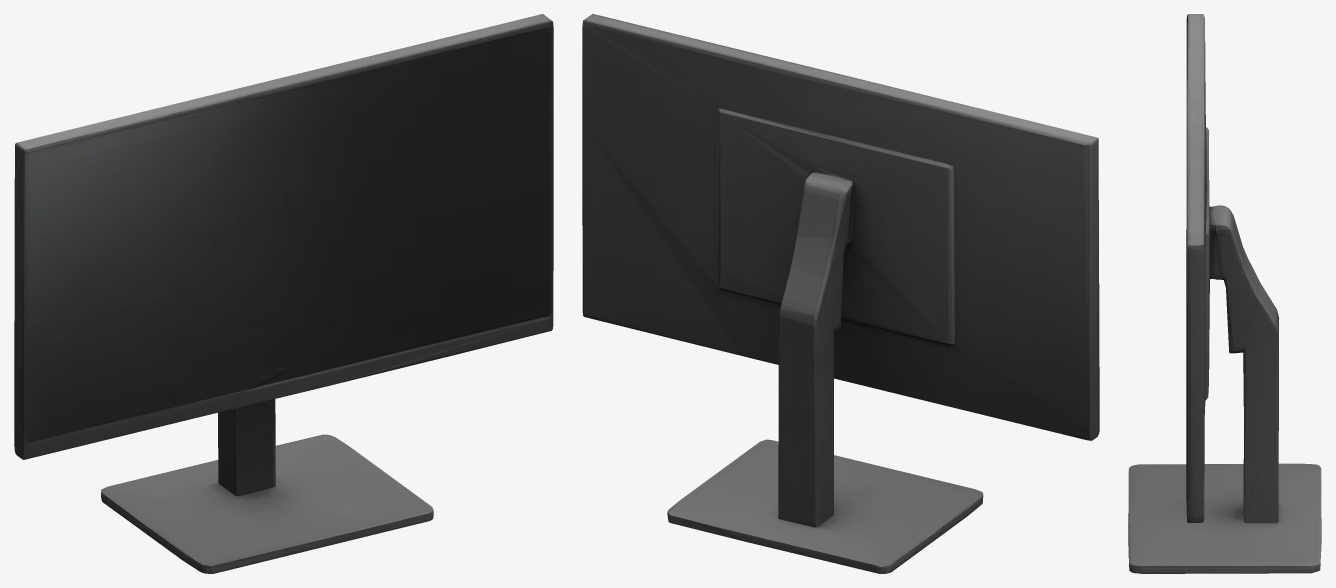
File: hf_monitor.glb
3 renders of one model, left to right at view 1: azimuth 30°, elevation 25°; view 2: azimuth 150°, elevation 25°; view 3: azimuth 270°, elevation 25°, orthographic. The views are drawn at different scales.
Visible parts, largest first — view 1: geometry_0; view 2: geometry_0; view 3: geometry_0.
Boxes of the visible parts, x1,y1,x2,y2 form: geometry_0: [14, 14, 553, 573]; geometry_0: [582, 14, 1099, 573]; geometry_0: [1128, 14, 1321, 573].
Size of the model in its own units: 1 by 0.7932 by 0.3522.
Materials: 1 (1 with a texture image).
